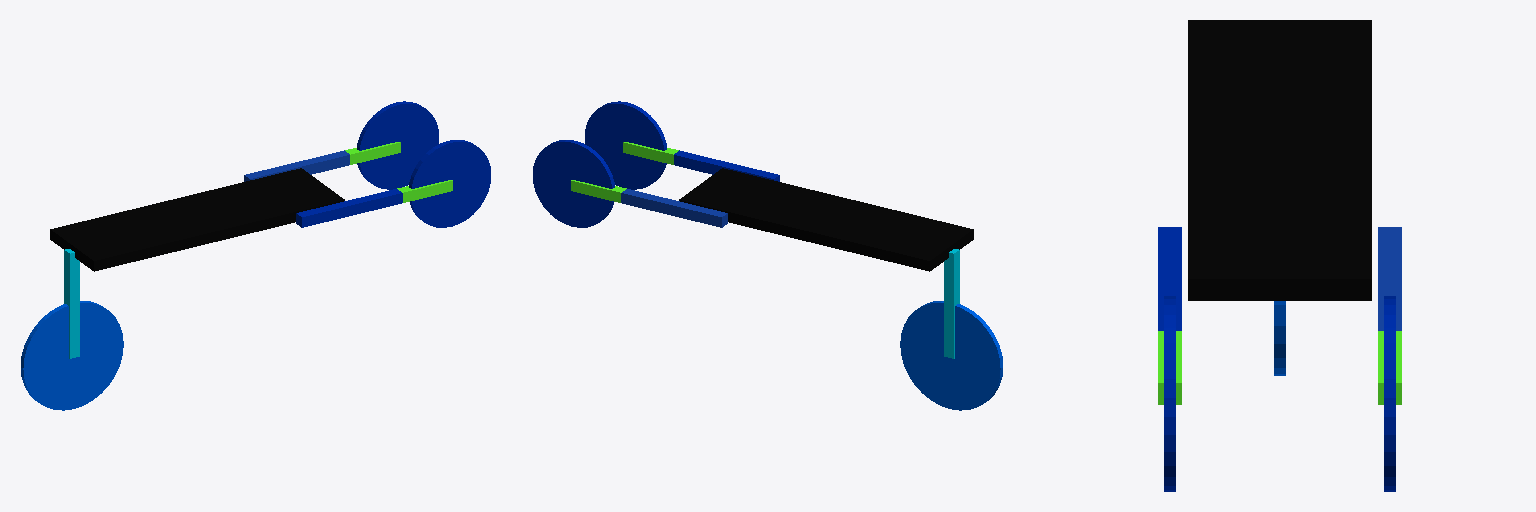
The robot description file, URDF, robot "robot":


<robot name="robot">
  <link name="base_footprint"></link>
  <joint name="base_joint" type="fixed">
    <parent link="base_footprint" />
    <child link="base_link" />
    <origin xyz="0 0 1" rpy="0 0 0" />
  </joint>

  <link name="base_link">
    <visual>
      <origin xyz="0 0 0" rpy="0 0 0" />
      <geometry>
        <box size="2.5 0.75 0.1" />
      </geometry>
      <material name="base_link-material">
        <color rgba="0.05 0.05 0.05 1" />
      </material>
    </visual>
    <collision>
      <origin xyz="0 0 0" rpy="0 0 0" />
      <geometry>
        <box size="2.5 0.75 0.1" />
      </geometry>
    </collision>
    <inertial>
      <origin xyz="0 0 0" rpy="0 0 0" />
      <mass value="100" />
      <inertia ixx="10" ixy="0" ixz="0" iyy="10" iyz="0" izz="10" />
    </inertial>
  </link>

  <joint name="base_link_to_hipFL" type="revolute">
    <parent link="base_link" />
    <child link="hipFL" />
    <origin xyz="0.75 0 0" rpy="0 0 0" />
    <axis xyz="0 1 0"/>
    <limit effort="1000.0" lower="-1" upper="1" velocity="0.5"/>
  </joint>

  <link name="hipFL">
    <visual>
      <origin xyz="0.5 0.45 0" rpy="0 0 0" />
      <geometry>
        <box size="1 0.1 0.1" />
      </geometry>
      <material name="hipFL-material">
        <color rgba="0.1 0.3 0.7 1" />
      </material>
    </visual>
    <collision>
      <origin xyz="0.5 0.45 0" rpy="0 0 0" />
      <geometry>
        <box size="1 0.1 0.1" />
      </geometry>
    </collision>
    <inertial>
      <origin xyz="0.5 0.45 0" rpy="0 0 0" />
      <mass value="5" />
      <inertia ixx="0.2" ixy="0" ixz="0" iyy="0.2" iyz="0" izz="0.2" />
    </inertial>
  </link>

  <joint name="hipFL_to_fourcheFL" type="revolute">
    <parent link="hipFL" />
    <child link="fourcheFL" />
    <origin xyz="1.25 0.45 0" rpy="0 0 0" />
    <axis xyz="-1 0 0"/>
    <limit effort="1000.0" lower="-1" upper="1" velocity="0.5"/>
  </joint>

  <link name="fourcheFL">
    <visual>
      <origin xyz="0 0 0" rpy="0 0 0" />
      <geometry>
        <box size="0.5 0.1 0.1" />
      </geometry>
      <material name="fourcheFL-material">
        <color rgba="0.4 1 0.2 1" />
      </material>
    </visual>
    <inertial>
      <origin xyz="0 0 0" rpy="0 0 0" />
      <mass value="5" />
      <inertia ixx="0.5" ixy="0" ixz="0" iyy="0.5" iyz="0" izz="0.5" />
    </inertial>
  </link>

  <joint name="fourcheFL_to_wheelFL" type="revolute">
    <parent link="fourcheFL" />
    <child link="wheelFL" />
    <origin xyz="0.25 0 0" rpy="1.570796326794897 0 0" />
    <axis xyz="0 0 1"/>
    <limit effort="1000.0"/>
  </joint>

  <link name="wheelFL">
    <visual>
      <origin xyz="0 0 0" rpy="0 0 0" />
      <geometry>
        <cylinder radius="0.4" length="0.05" />
      </geometry>
      <material name="wheelFL-material">
        <color rgba="0 0.2 0.7 1" />
      </material>
    </visual>
    <collision>
      <origin xyz="0 0 0" rpy="0 0 0" />
      <geometry>
        <cylinder radius="0.4" length="0.05" />
      </geometry>
    </collision>
    <inertial>
      <origin xyz="0 0 0" rpy="0 0 0" />
      <mass value="5" />
      <inertia ixx="0.3" ixy="0" ixz="0" iyy="0.5" iyz="0" izz="0.3" />
    </inertial>
  </link>

  <joint name="base_link_to_hipFR" type="revolute">
    <parent link="base_link" />
    <child link="hipFR" />
    <origin xyz="0.75 0 0" rpy="0 0 0" />
    <axis xyz="0 1 0"/>
    <limit effort="1000.0" lower="-1" upper="1" velocity="0.5"/>
  </joint>

  <link name="hipFR">
    <visual>
      <origin xyz="0.5 -0.45 0" rpy="0 0 0" />
      <geometry>
        <box size="1 0.1 0.1" />
      </geometry>
      <material name="hipFR-material">
        <color rgba="0 0.2 0.7 1" />
      </material>
    </visual>
    <collision>
      <origin xyz="0.5 -0.45 0" rpy="0 0 0" />
      <geometry>
        <box size="1 0.1 0.1" />
      </geometry>
    </collision>
    <inertial>
      <origin xyz="0.5 -0.45 0" rpy="0 0 0" />
      <mass value="5" />
      <inertia ixx="0.5" ixy="0" ixz="0" iyy="1" iyz="0" izz="0.5" />
    </inertial>
  </link>

  <joint name="hipFR_to_fourcheFR" type="revolute">
    <parent link="hipFR" />
    <child link="fourcheFR" />
    <origin xyz="1.25 -0.45 0" rpy="0 0 0" />
    <axis xyz="-1 0 0"/>
    <limit effort="1000.0" lower="-1" upper="1" velocity="0.5"/>
  </joint>

  <link name="fourcheFR">
    <visual>
      <origin xyz="0 0 0" rpy="0 0 0" />
      <geometry>
        <box size="0.5 0.1 0.1" />
      </geometry>
      <material name="fourcheFR-material">
        <color rgba="0.4 1 0.2 1" />
      </material>
    </visual>
    <inertial>
      <origin xyz="0 0 0" rpy="0 0 0" />
      <mass value="5" />
      <inertia ixx="1" ixy="0" ixz="0" iyy="1" iyz="0" izz="1" />
    </inertial>
  </link>

  <joint name="fourcheFR_to_wheelFR" type="revolute">
    <parent link="fourcheFR" />
    <child link="wheelFR" />
    <origin xyz="0.25 0 0" rpy="1.570796326794897 0 0" />
    <axis xyz="0 0 1"/>
    <limit effort="1000.0"/>
  </joint>

  <link name="wheelFR">
    <visual>
      <origin xyz="0 0 0" rpy="0 0 0" />
      <geometry>
        <cylinder radius="0.4" length="0.05" />
      </geometry>
      <material name="wheelFR-material">
        <color rgba="0 0.2 0.7 1" />
      </material>
    </visual>
    <collision>
      <origin xyz="0 0 0" rpy="0 0 0" />
      <geometry>
        <cylinder radius="0.4" length="0.05" />
      </geometry>
    </collision>
    <inertial>
      <origin xyz="0 0 0" rpy="0 0 0" />
      <mass value="5" />
      <inertia ixx="0.3" ixy="0" ixz="0" iyy="0.5" iyz="0" izz="0.3" />
    </inertial>
  </link>

  <joint name="base_link_to_cube5" type="fixed">
    <parent link="base_link" />
    <child link="cube5" />
    <origin xyz="-1.25 0 -0.5" rpy="0 0 0" />
  </joint>
  <link name="cube5">
    <visual>
      <origin xyz="0 0 0" rpy="0 0 0" />
      <geometry>
        <box size="0.1 0.1 1" />
      </geometry>
      <material name="cube5-material">
        <color rgba="0 0.8 0.9 1" />
      </material>
    </visual>
    <collision>
      <origin xyz="0 0 0" rpy="0 0 0" />
      <geometry>
        <box size="0.1 0.1 1" />
      </geometry>
    </collision>
    <inertial>
      <origin xyz="0 0 0" rpy="0 0 0" />
      <mass value="1" />
      <inertia ixx="0.2" ixy="0" ixz="0" iyy="0.2" iyz="0" izz="0.2" />
    </inertial>
  </link>

  <joint name="cube5_to_rearwheel" type="revolute">
    <parent link="cube5" />
    <child link="rearwheel" />
    <origin xyz="0 0 -0.5" rpy="1.570796326794897 0 0" />
    <axis xyz="0 0 1"/>
    <limit effort="1000.0"/>
  </joint>

  <link name="rearwheel">
    <visual>
      <origin xyz="0 0 0" rpy="0 0 0" />
      <geometry>
        <cylinder radius="0.5" length="0.05" />
      </geometry>
      <material name="rearwheel-material">
        <color rgba="0 0.4 0.9 1" />
      </material>
    </visual>
    <collision>
      <origin xyz="0 0 0" rpy="0 0 0" />
      <geometry>
        <cylinder radius="0.5" length="0.05" />
      </geometry>
    </collision>
    <inertial>
      <origin xyz="0 0 0" rpy="0 0 0" />
      <mass value="1" />
      <inertia ixx="0.3" ixy="0" ixz="0" iyy="0.5" iyz="0" izz="0.3" />
    </inertial>
  </link>
</robot>

--- Facts derived from the render (not from the file) ---
3 views of the same robot in one strip: view 1: azimuth 30°, elevation 25°; view 2: azimuth 150°, elevation 25°; view 3: azimuth 270°, elevation 25° (orthographic).
Model robot with 10 links and 9 joints (7 revolute, 2 fixed), rooted at base_footprint, posed every joint at zero.
Links seen in each view (by area): view 1: base_link, rearwheel, wheelFR, wheelFL, hipFR, cube5, hipFL, fourcheFL, fourcheFR; view 2: base_link, rearwheel, wheelFL, wheelFR, hipFL, cube5, hipFR, fourcheFR, fourcheFL; view 3: base_link, wheelFL, wheelFR, hipFL, hipFR, rearwheel, fourcheFL, fourcheFR.
Boxes of the visible links, bbox=[...] form: base_link: bbox=[50, 168, 344, 271]; rearwheel: bbox=[21, 301, 123, 410]; wheelFR: bbox=[409, 140, 490, 227]; wheelFL: bbox=[357, 101, 438, 189]; hipFR: bbox=[296, 189, 402, 227]; cube5: bbox=[64, 249, 79, 358]; hipFL: bbox=[244, 150, 349, 181]; fourcheFL: bbox=[345, 142, 400, 164]; fourcheFR: bbox=[397, 180, 452, 202]; base_link: bbox=[679, 168, 973, 271]; rearwheel: bbox=[900, 301, 1002, 410]; wheelFL: bbox=[533, 140, 614, 227]; wheelFR: bbox=[585, 101, 666, 189]; hipFL: bbox=[621, 189, 727, 227]; cube5: bbox=[944, 249, 959, 358]; hipFR: bbox=[674, 150, 779, 181]; fourcheFR: bbox=[623, 142, 678, 164]; fourcheFL: bbox=[571, 180, 626, 202]; base_link: bbox=[1188, 20, 1371, 300]; wheelFL: bbox=[1384, 296, 1395, 491]; wheelFR: bbox=[1164, 296, 1175, 491]; hipFL: bbox=[1378, 227, 1401, 330]; hipFR: bbox=[1158, 227, 1181, 330]; rearwheel: bbox=[1274, 301, 1285, 375]; fourcheFL: bbox=[1378, 331, 1401, 404]; fourcheFR: bbox=[1158, 331, 1181, 404].
Bounding box of the posed robot: 4.4 × 1 × 1.9 m (x, y, z).
Geometry: primitives only (box / cylinder / sphere), no mesh files.